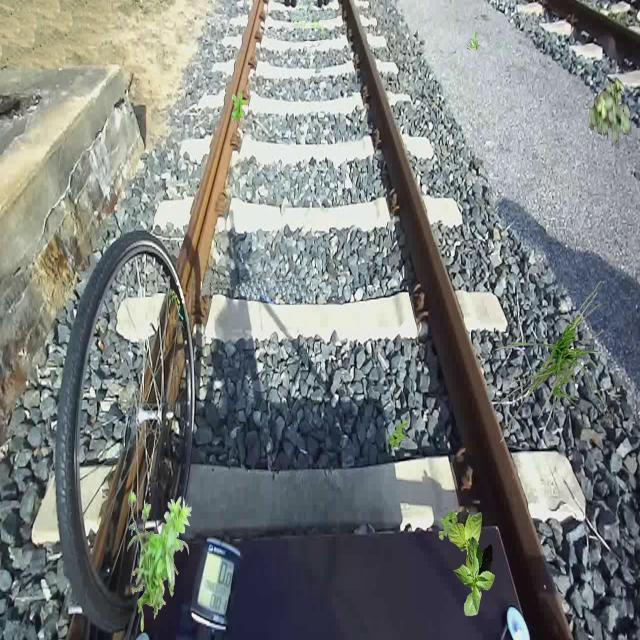Plant: (493, 280, 612, 443), (127, 489, 192, 632), (453, 537, 495, 617), (588, 77, 632, 144), (447, 511, 482, 594), (438, 508, 458, 540), (388, 418, 408, 450), (232, 92, 250, 124), (466, 30, 480, 51)
